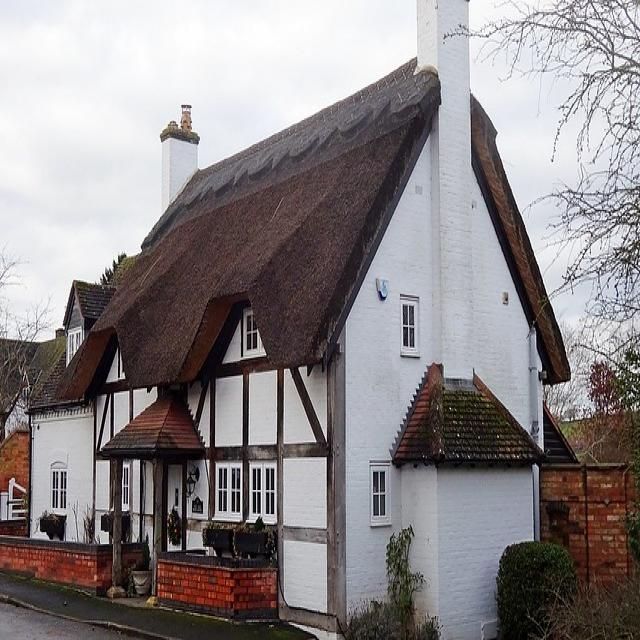Normal_building: (25, 49, 578, 640)
